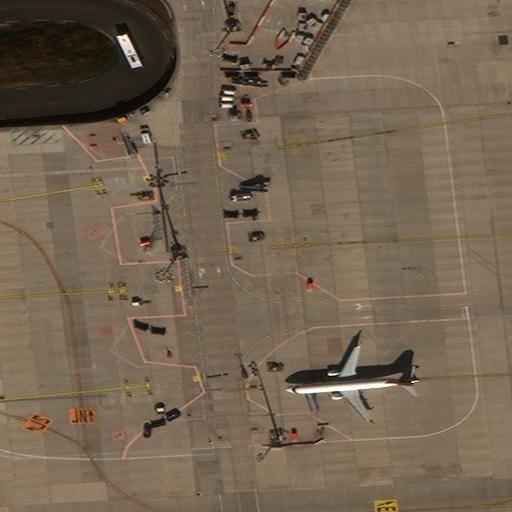Medium Civil Transport: (285, 347, 420, 422)
